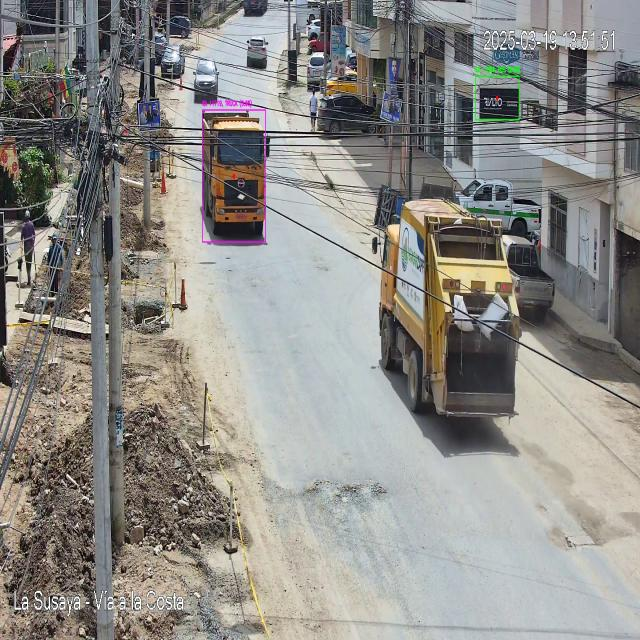TRUCK: (380, 200, 522, 418), (201, 102, 269, 247)
